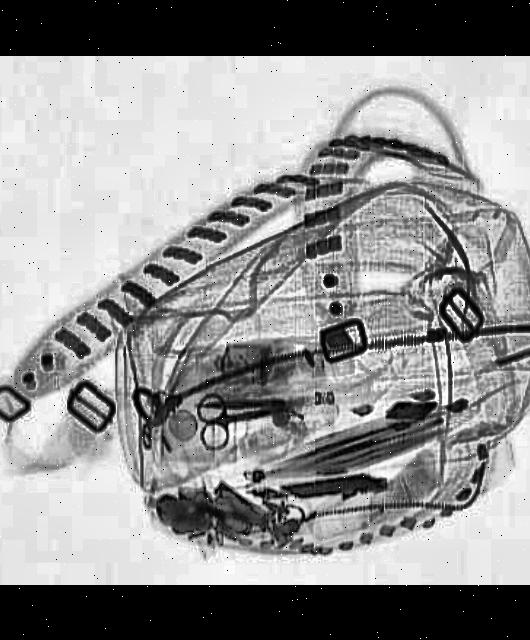Scissors: (195, 385, 279, 453)
